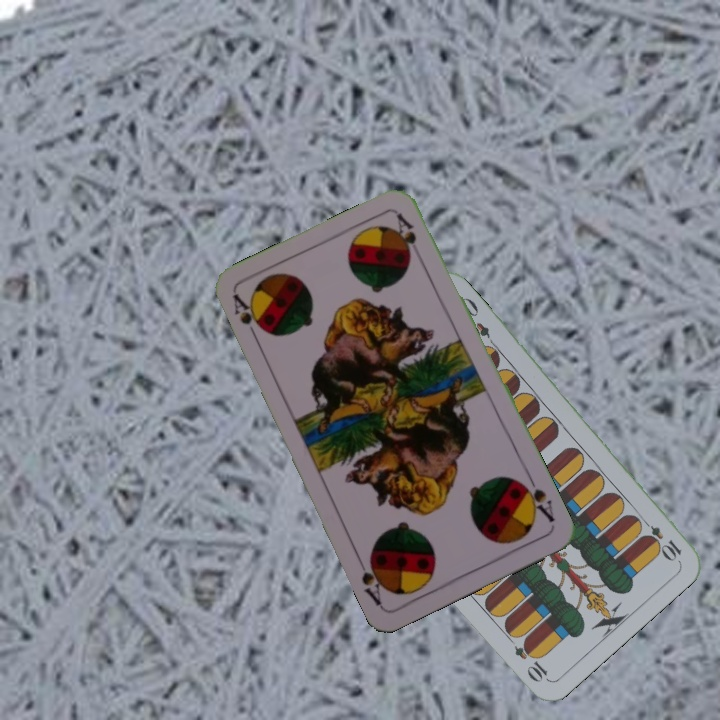E10: (635, 513, 684, 563)
SA: (515, 471, 558, 525), (229, 290, 267, 346)
